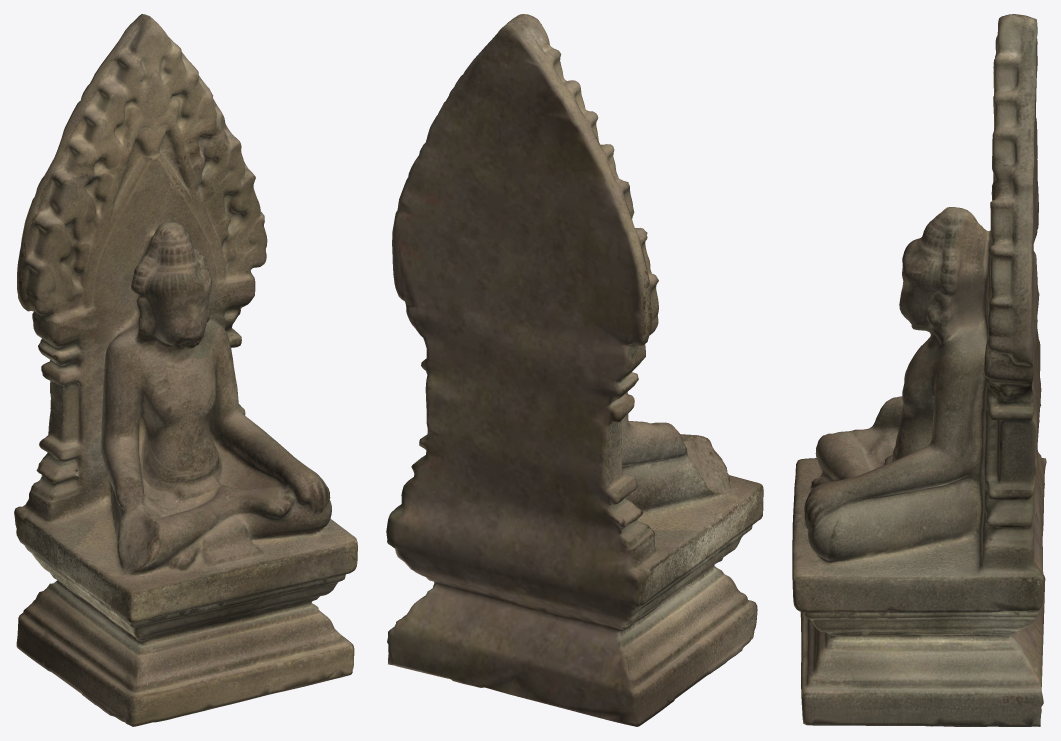
The model's file is 18_thanphuonghuong_kubera_final.glb.
3 views of the same model, side by side, from view 1: azimuth 30°, elevation 25°; view 2: azimuth 150°, elevation 25°; view 3: azimuth 270°, elevation 25° (orthographic). The views are drawn at different scales.
Size of the model in its own units: 0.3629 by 0.9006 by 0.3165.
1 material, 1 textured.
